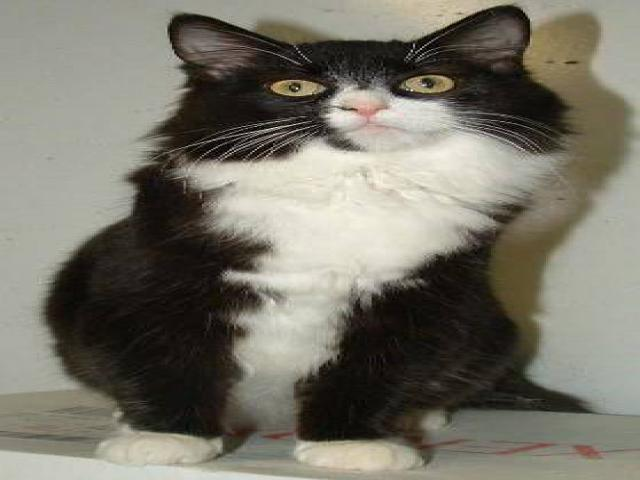cat: (46, 8, 607, 467)
